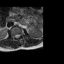CCS_normal: (16, 32, 18, 40)
LFS_normal: (20, 31, 22, 37)
LLS_normal: (18, 32, 20, 39)
RFS_normal: (13, 33, 15, 40)
RLS_normal: (14, 33, 16, 39)
